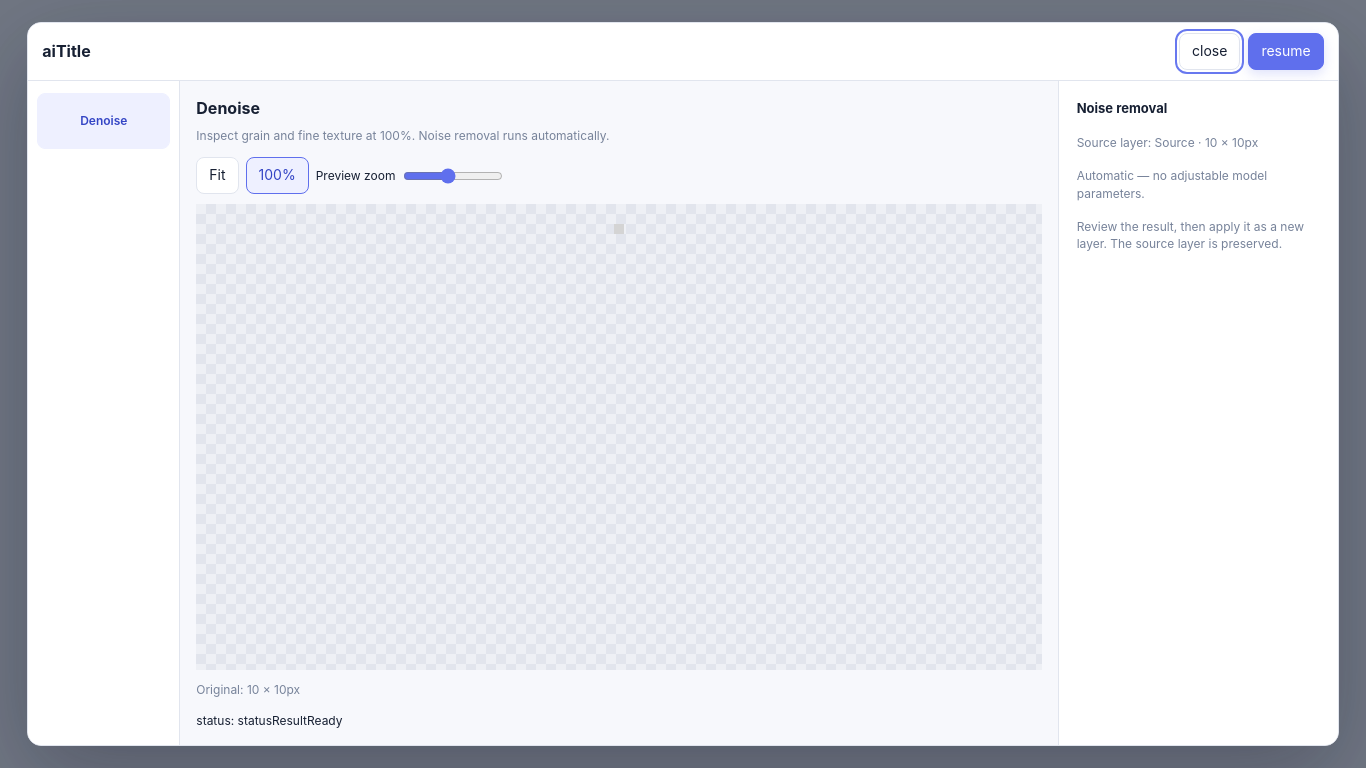
it: AI result review and application › refuses a stale preview before changing the document
Click the button "resume": (1286, 51) [1248,33,1324,70]
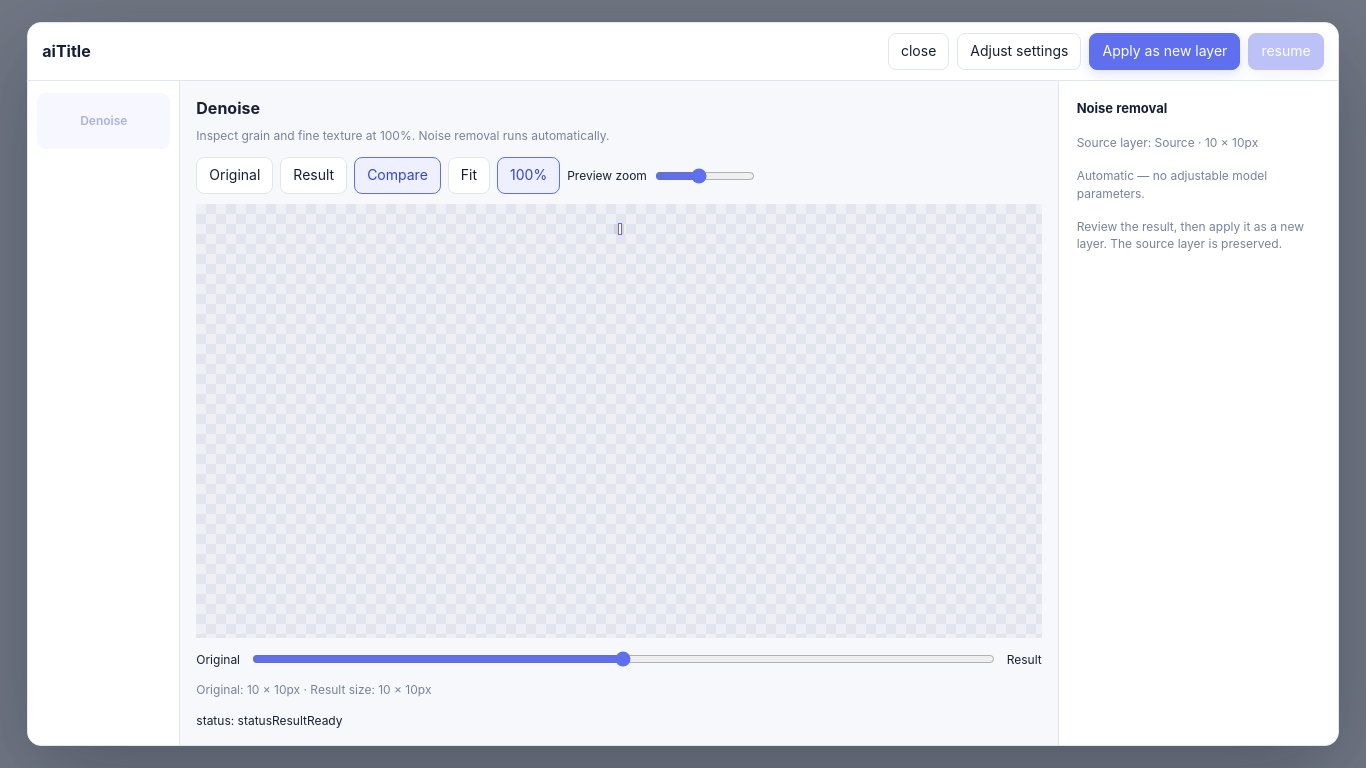
Click the button "Apply as new layer": (1165, 51) [1090,33,1240,70]
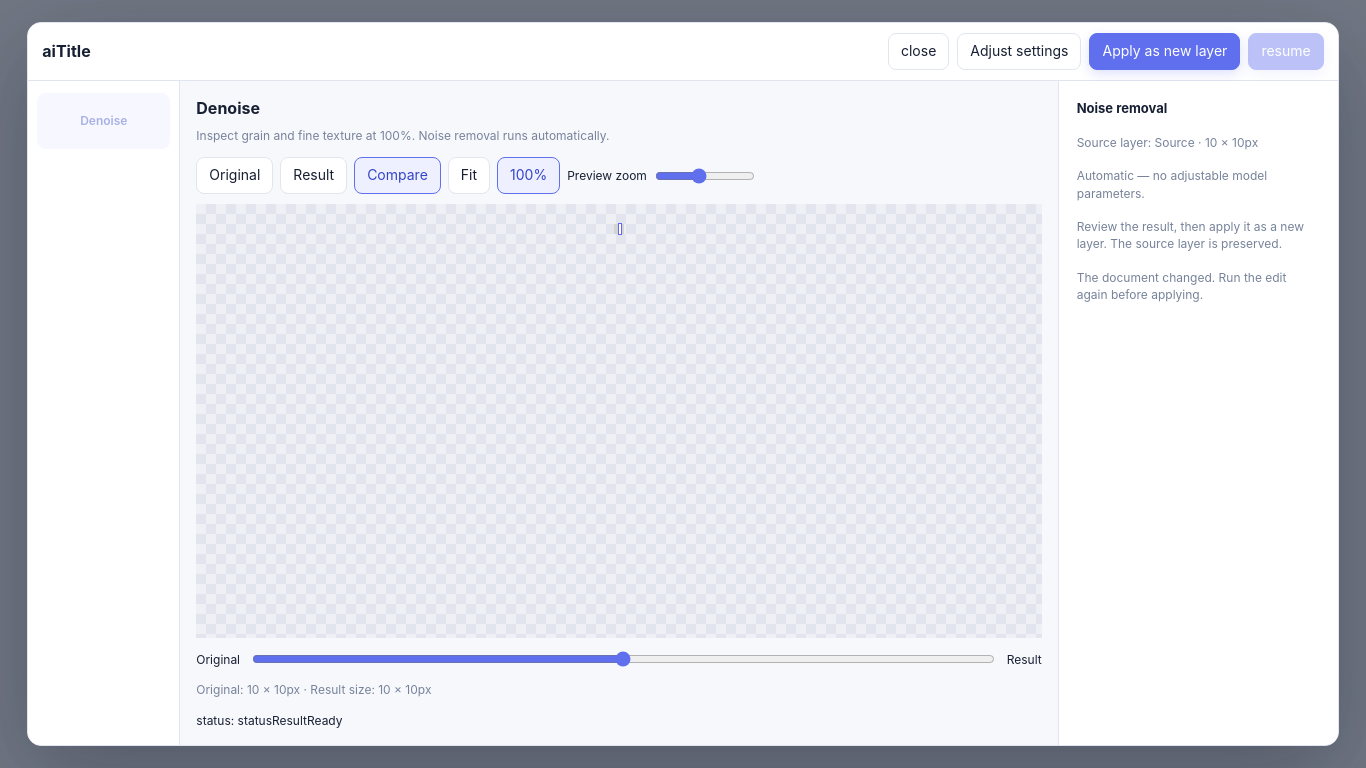
Now the text "The document changed" is shown, box [1077,270,1286,302]
